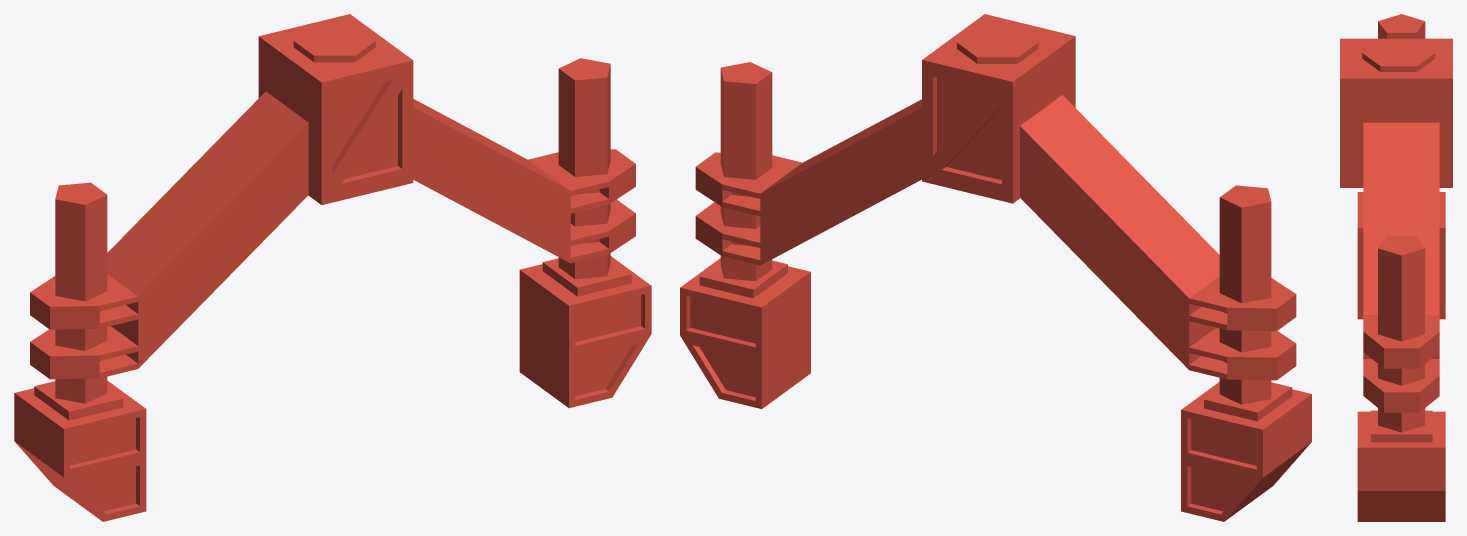
Rendered from SM_Camera_Crane_Pan.fbx.
3 renders of one model, left to right at view 1: azimuth 30°, elevation 25°; view 2: azimuth 150°, elevation 25°; view 3: azimuth 270°, elevation 25°, orthographic. The views are drawn at different scales.
Parts seen in each view (by area): view 1: SM_Camera_Crane_Pan; view 2: SM_Camera_Crane_Pan; view 3: SM_Camera_Crane_Pan.
Boxes of the visible parts, left/top/right/bottom form: SM_Camera_Crane_Pan: left=14, top=14, right=651, bottom=521; SM_Camera_Crane_Pan: left=680, top=14, right=1311, bottom=521; SM_Camera_Crane_Pan: left=1340, top=14, right=1452, bottom=521.
Size of the model in its own units: 16.2 by 86.95 by 56.86.
